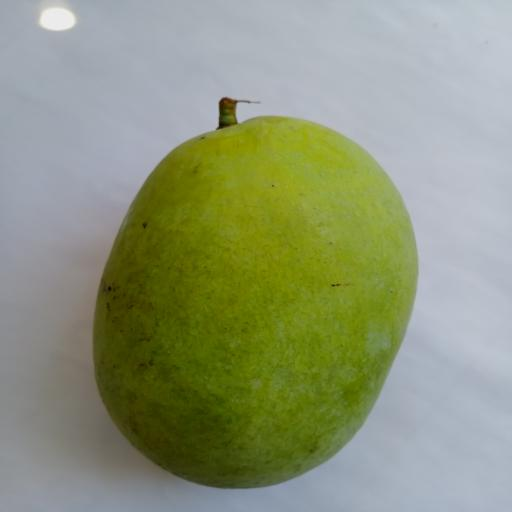mango-unripe: (75, 67, 447, 507)
